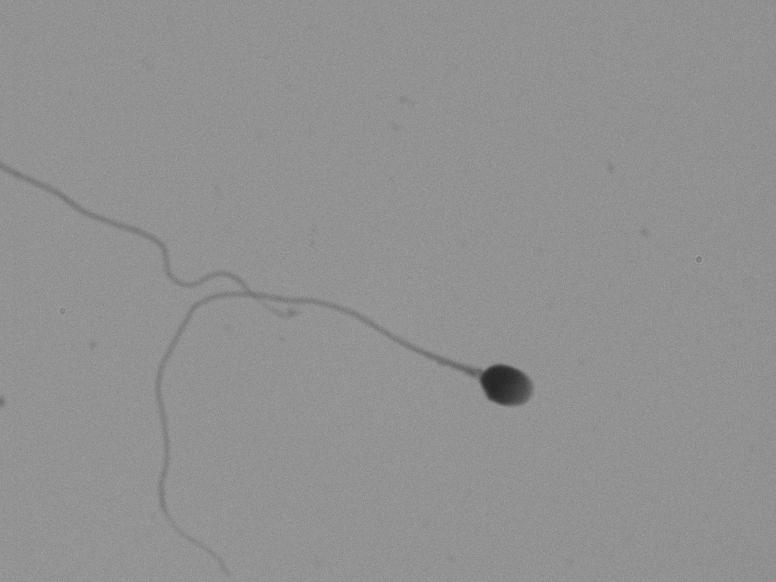Normal: (123, 272, 582, 560)
